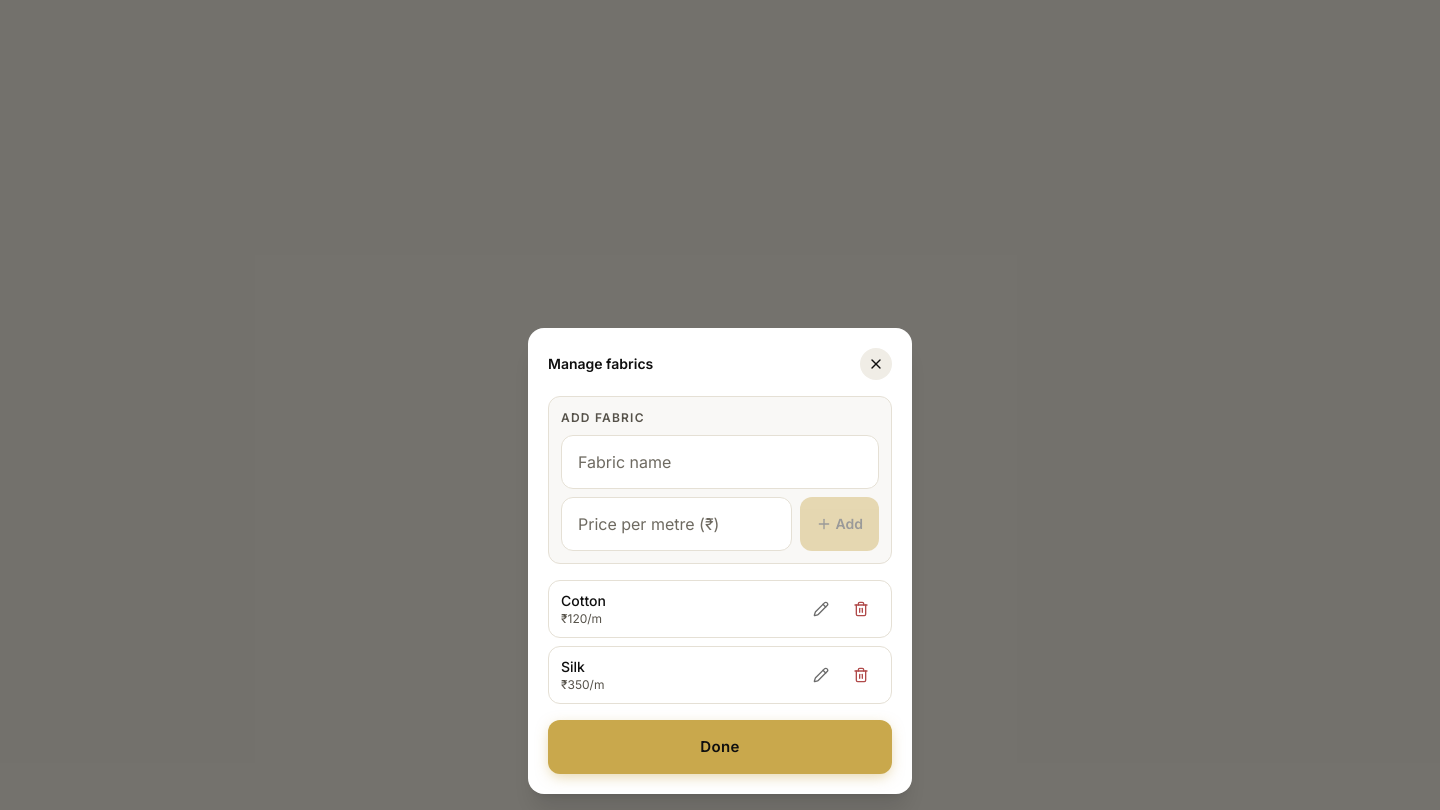
Test: FabricManagerSheet › can cancel an edit without saving
Click the button named "Edit Silk": {"x": 821, "y": 674} top-left (803, 656), bottom-right (839, 692)
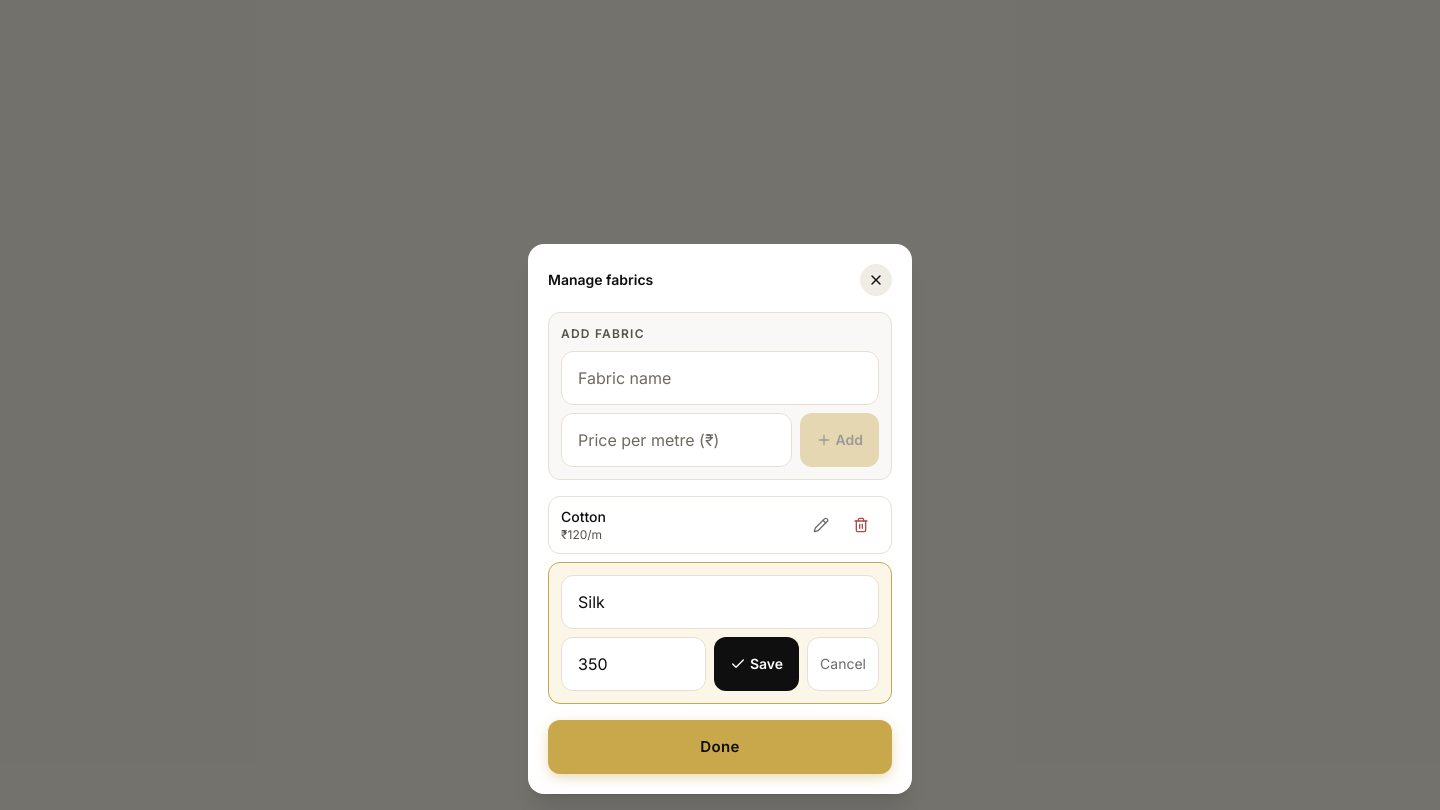
Click the button with aria-label "Cancel editing Silk": {"x": 843, "y": 664} top-left (807, 636), bottom-right (879, 690)
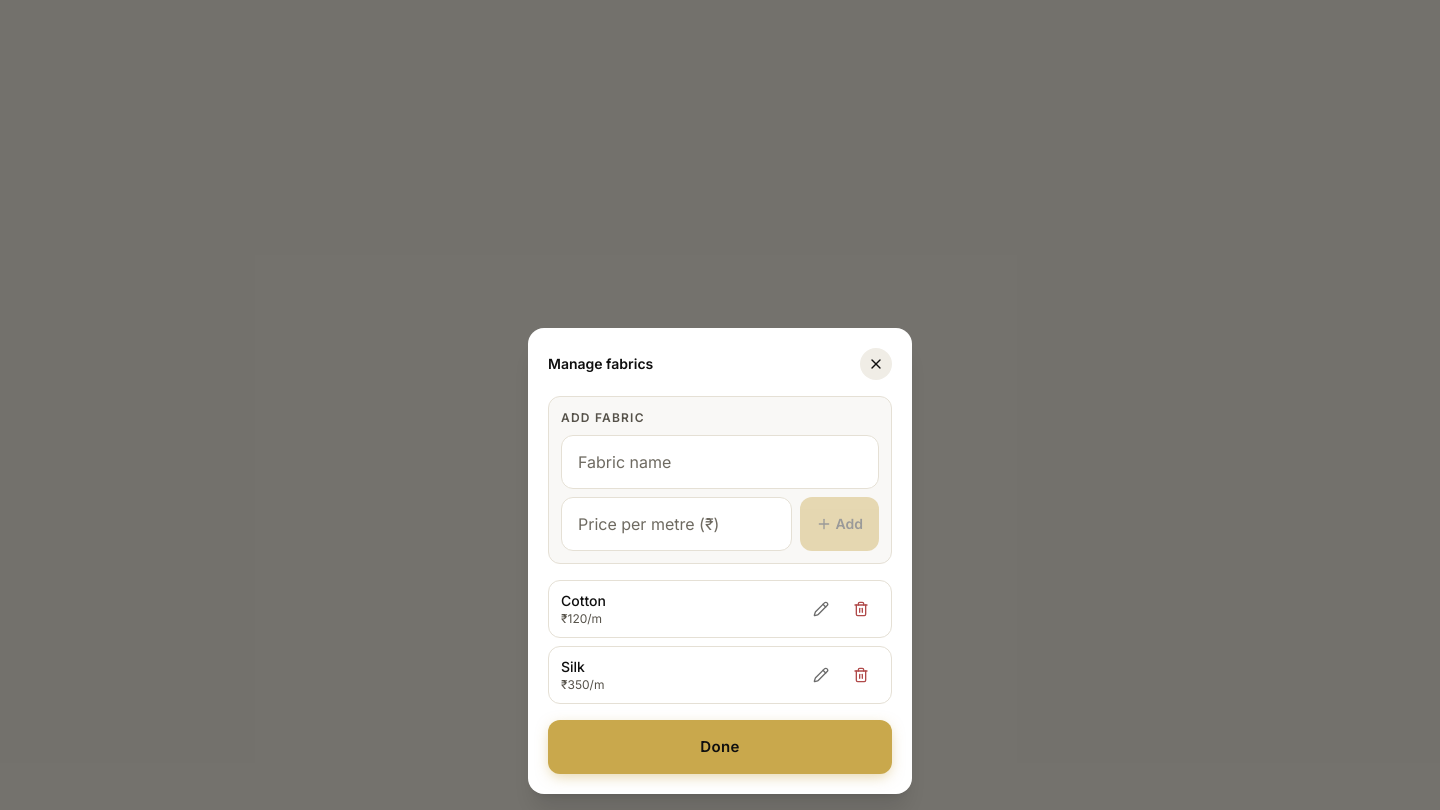
Check: the text "₹350/m" is shown, box top-left (561, 676), bottom-right (604, 692)
